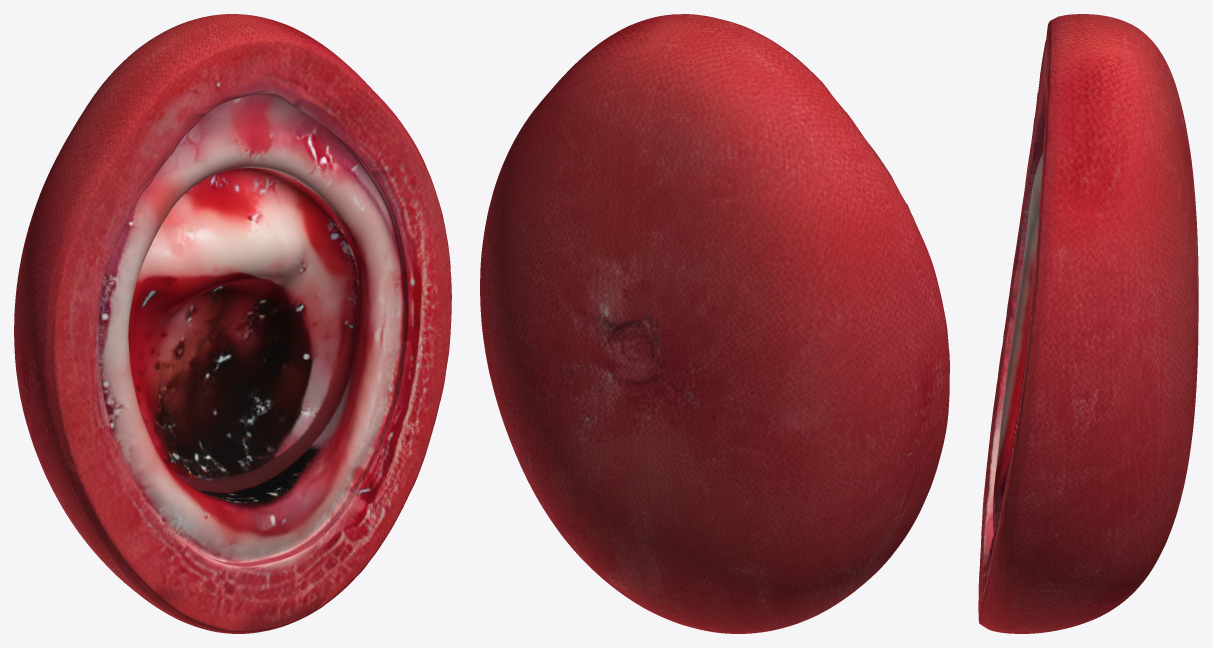
Rendered from ear-infection.glb.
3 views of the same model, side by side, from view 1: azimuth 30°, elevation 25°; view 2: azimuth 150°, elevation 25°; view 3: azimuth 270°, elevation 25° (orthographic). The views are drawn at different scales.
Parts seen in each view (by area): view 1: model; view 2: model; view 3: model.
Boxes of the visible parts, x1=… form: model: x1=14, y1=14, x2=451, y2=633; model: x1=480, y1=14, x2=949, y2=633; model: x1=978, y1=14, x2=1198, y2=633.
Bounding box in the file's own units: 1.42 × 1.9 × 0.6448.
Materials: 1 (1 with a texture image).
